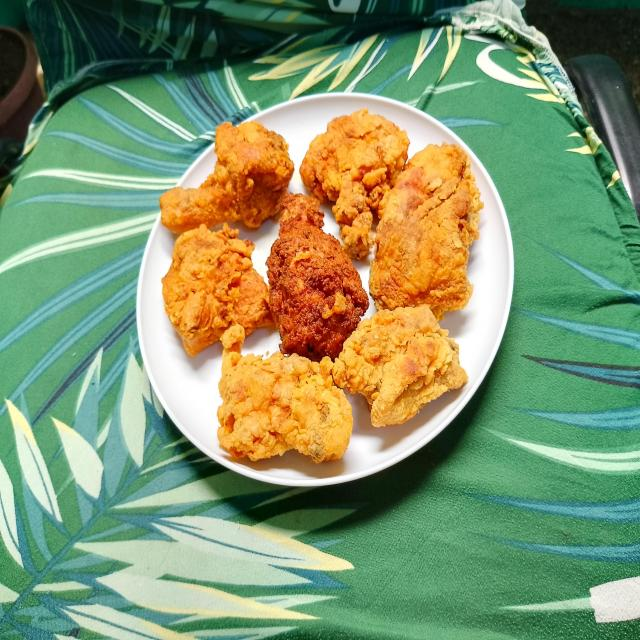Chicken -Fried Chicken-: (166, 113, 470, 446)
